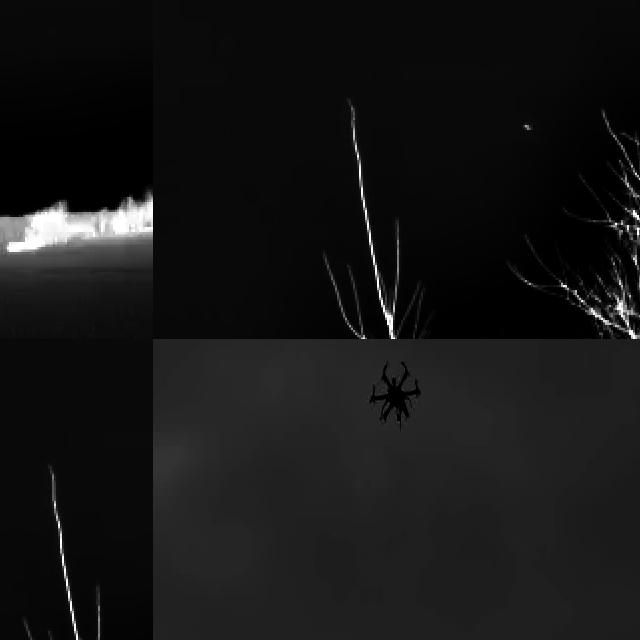0: (513, 115, 539, 147)
drone: (366, 350, 428, 428)
